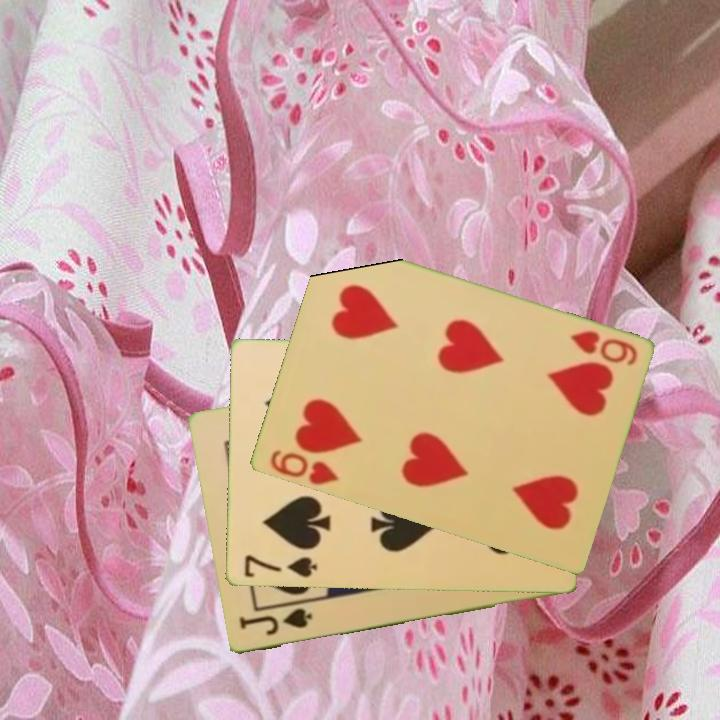6h: (266, 446, 341, 489), (566, 327, 640, 369)
7s: (240, 551, 319, 581)
Js: (236, 605, 315, 639)
